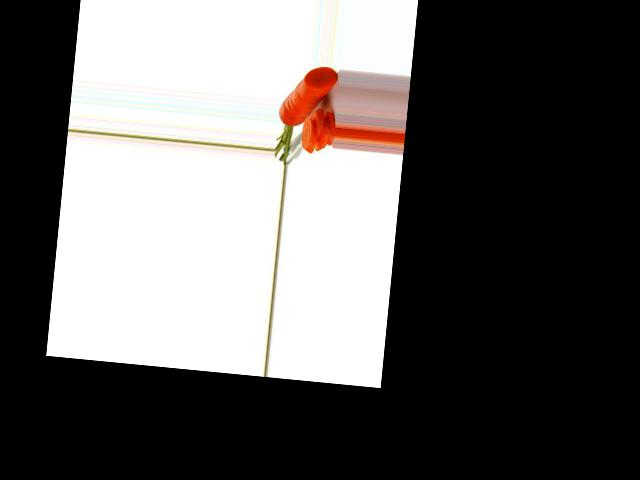carrot: (277, 67, 335, 130)
